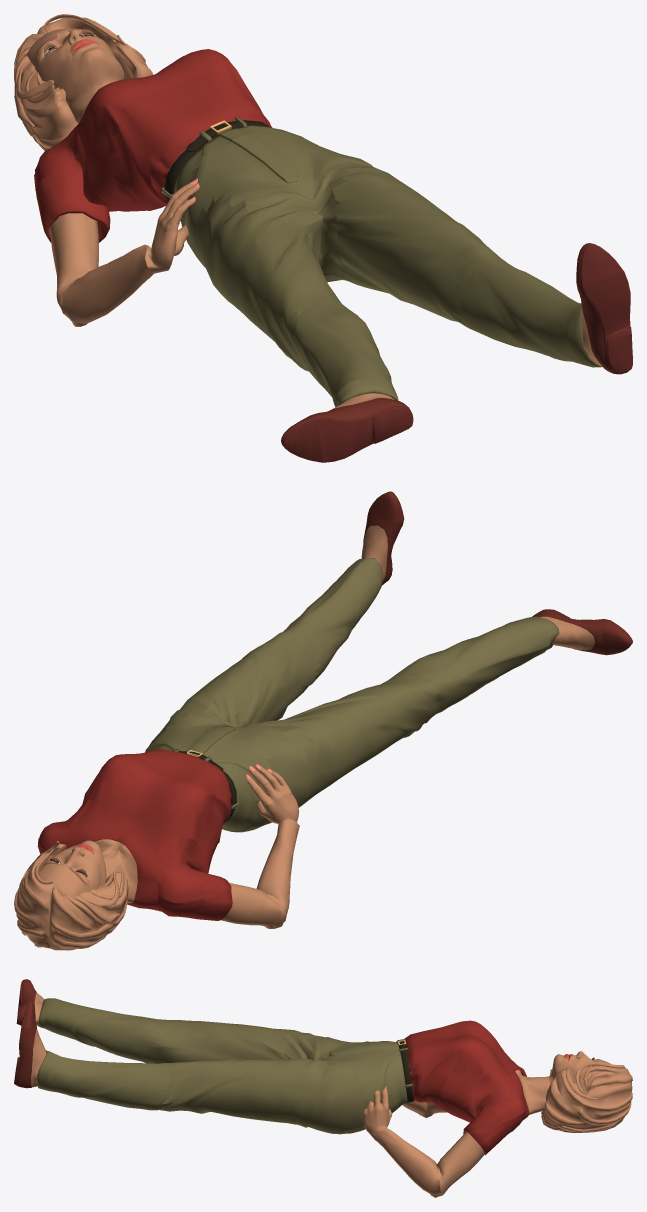
The model's file is cekajici_zena.obj.
3 renders of one model, top to bottom at view 1: azimuth 30°, elevation 25°; view 2: azimuth 150°, elevation 25°; view 3: azimuth 270°, elevation 25°, orthographic. The views are drawn at different scales.
Parts seen in each view (by area): view 1: lThigh:1, abdomen:1, rThigh:1, hip:1, lShin:1, chest:1, rShin:1, figureHair:1, rShldr:1, rFoot:1, lFoot:1, head:1 (+5 smaller); view 2: chest:1, rThigh:1, lThigh:1, figureHair:1, rShin:1, hip:1, lShin:1, abdomen:1, rShldr:1, rCollar:1, head:1, rForeArm:1 (+6 smaller); view 3: lThigh:1, figureHair:1, lShin:1, rThigh:1, rShin:1, chest:1, abdomen:1, hip:1, lShldr:1, lCollar:1, lForeArm:1, lFoot:1 (+4 smaller).
Part boxes in pixels (x1=…): lThigh:1: x1=332, y1=152, x2=490, y2=323; abdomen:1: x1=110, y1=70, x2=271, y2=226; rThigh:1: x1=195, y1=194, x2=357, y2=371; hip:1: x1=181, y1=127, x2=356, y2=284; lShin:1: x1=451, y1=246, x2=594, y2=366; chest:1: x1=77, y1=49, x2=236, y2=211; rShin:1: x1=285, y1=306, x2=395, y2=405; figureHair:1: x1=14, y1=14, x2=152, y2=150; rShldr:1: x1=35, y1=168, x2=110, y2=310; rFoot:1: x1=310, y1=379, x2=413, y2=462; lFoot:1: x1=568, y1=272, x2=632, y2=374; head:1: x1=27, y1=28, x2=124, y2=123; chest:1: x1=61, y1=754, x2=220, y2=911; rThigh:1: x1=262, y1=664, x2=439, y2=825; lThigh:1: x1=149, y1=631, x2=320, y2=745; figureHair:1: x1=14, y1=841, x2=128, y2=950; rShin:1: x1=403, y1=618, x2=549, y2=713; hip:1: x1=145, y1=700, x2=299, y2=832; lShin:1: x1=283, y1=562, x2=380, y2=678; abdomen:1: x1=134, y1=743, x2=251, y2=834; rShldr:1: x1=188, y1=870, x2=285, y2=928; rCollar:1: x1=156, y1=835, x2=210, y2=917; head:1: x1=38, y1=840, x2=107, y2=897; rForeArm:1: x1=256, y1=819, x2=299, y2=928; lThigh:1: x1=162, y1=1059, x2=367, y2=1133; figureHair:1: x1=541, y1=1062, x2=632, y2=1132; lShin:1: x1=46, y1=1054, x2=175, y2=1110; rThigh:1: x1=154, y1=1020, x2=320, y2=1063; rShin:1: x1=45, y1=998, x2=173, y2=1063; chest:1: x1=435, y1=1020, x2=530, y2=1122; abdomen:1: x1=383, y1=1024, x2=456, y2=1110; hip:1: x1=283, y1=1034, x2=395, y2=1134; lShldr:1: x1=436, y1=1105, x2=507, y2=1195; lCollar:1: x1=462, y1=1069, x2=525, y2=1135; lForeArm:1: x1=374, y1=1129, x2=443, y2=1197; lFoot:1: x1=14, y1=1022, x2=54, y2=1090.
Bounding box in the file's own units: 0.3288 × 0.2151 × 0.7094.
